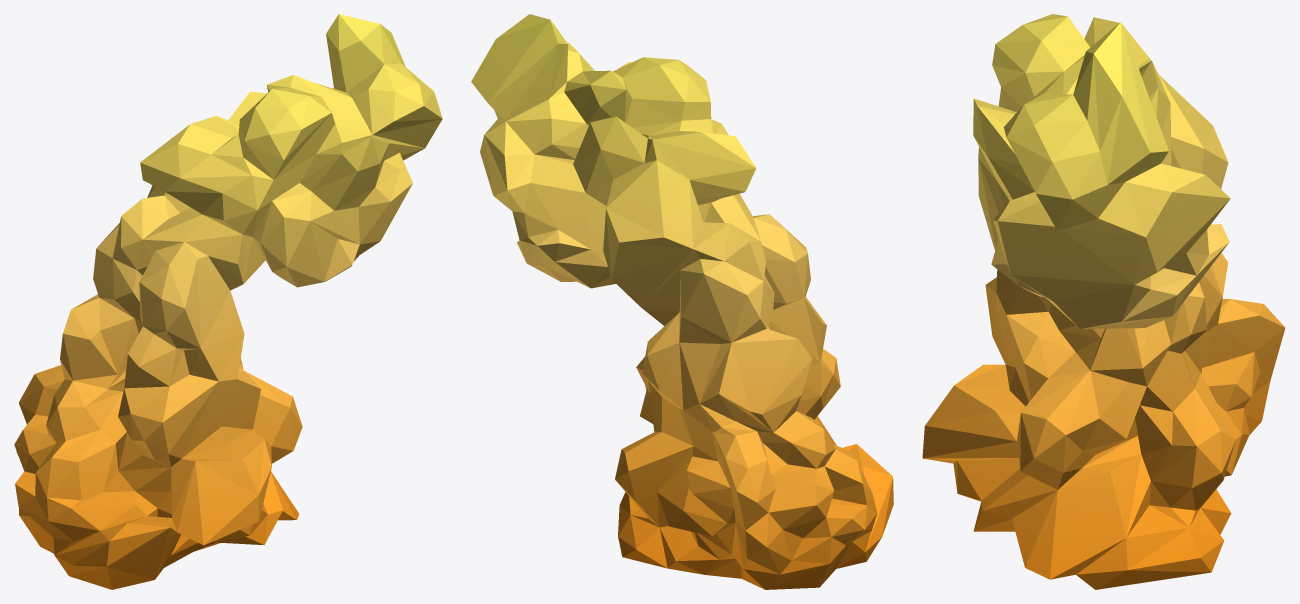
The model's file is SM_Rock_7.fbx.
The picture shows the model from 3 angles, left to right: view 1: azimuth 30°, elevation 25°; view 2: azimuth 150°, elevation 25°; view 3: azimuth 270°, elevation 25°; orthographic projection. The views are drawn at different scales.
Visible parts, largest first — view 1: Rock_7; view 2: Rock_7; view 3: Rock_7.
Part boxes in pixels (x1,y1,x2,y2): Rock_7: (14, 14, 442, 589); Rock_7: (471, 14, 893, 589); Rock_7: (922, 14, 1285, 589).
Bounding box in the file's own units: 1370 × 1597 × 850.
